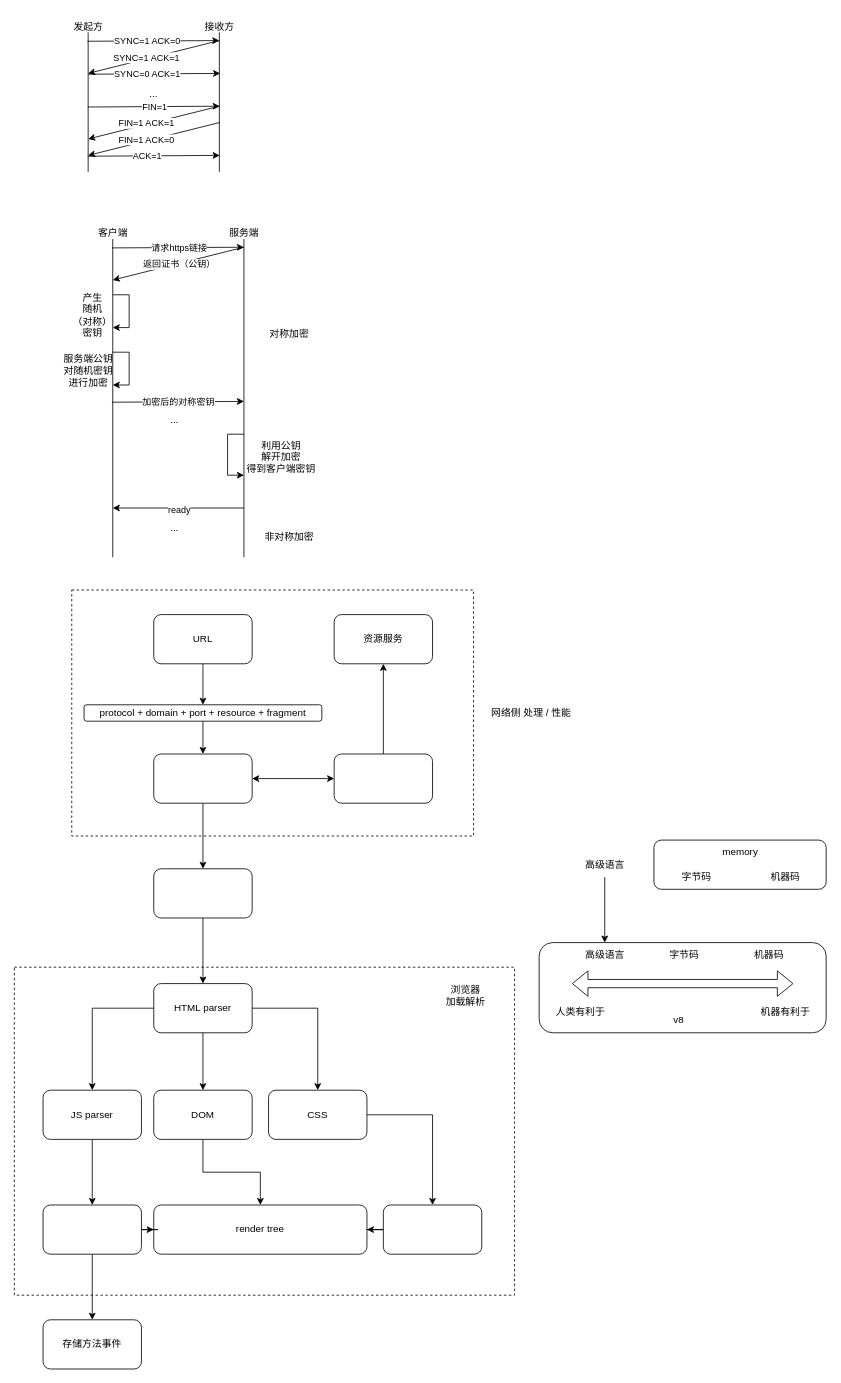
This 841x1383 diagram has some shape labels left out. The box of each missing label's shape, as (x1, y1, x2, y2) in pixels:
CSS parser CSSOM: (383, 1204, 482, 1254)
JS生成: (42, 1204, 141, 1254)
浏览器: (153, 753, 252, 803)
网络操作: (333, 753, 433, 803)
静态资源: (153, 868, 252, 918)
